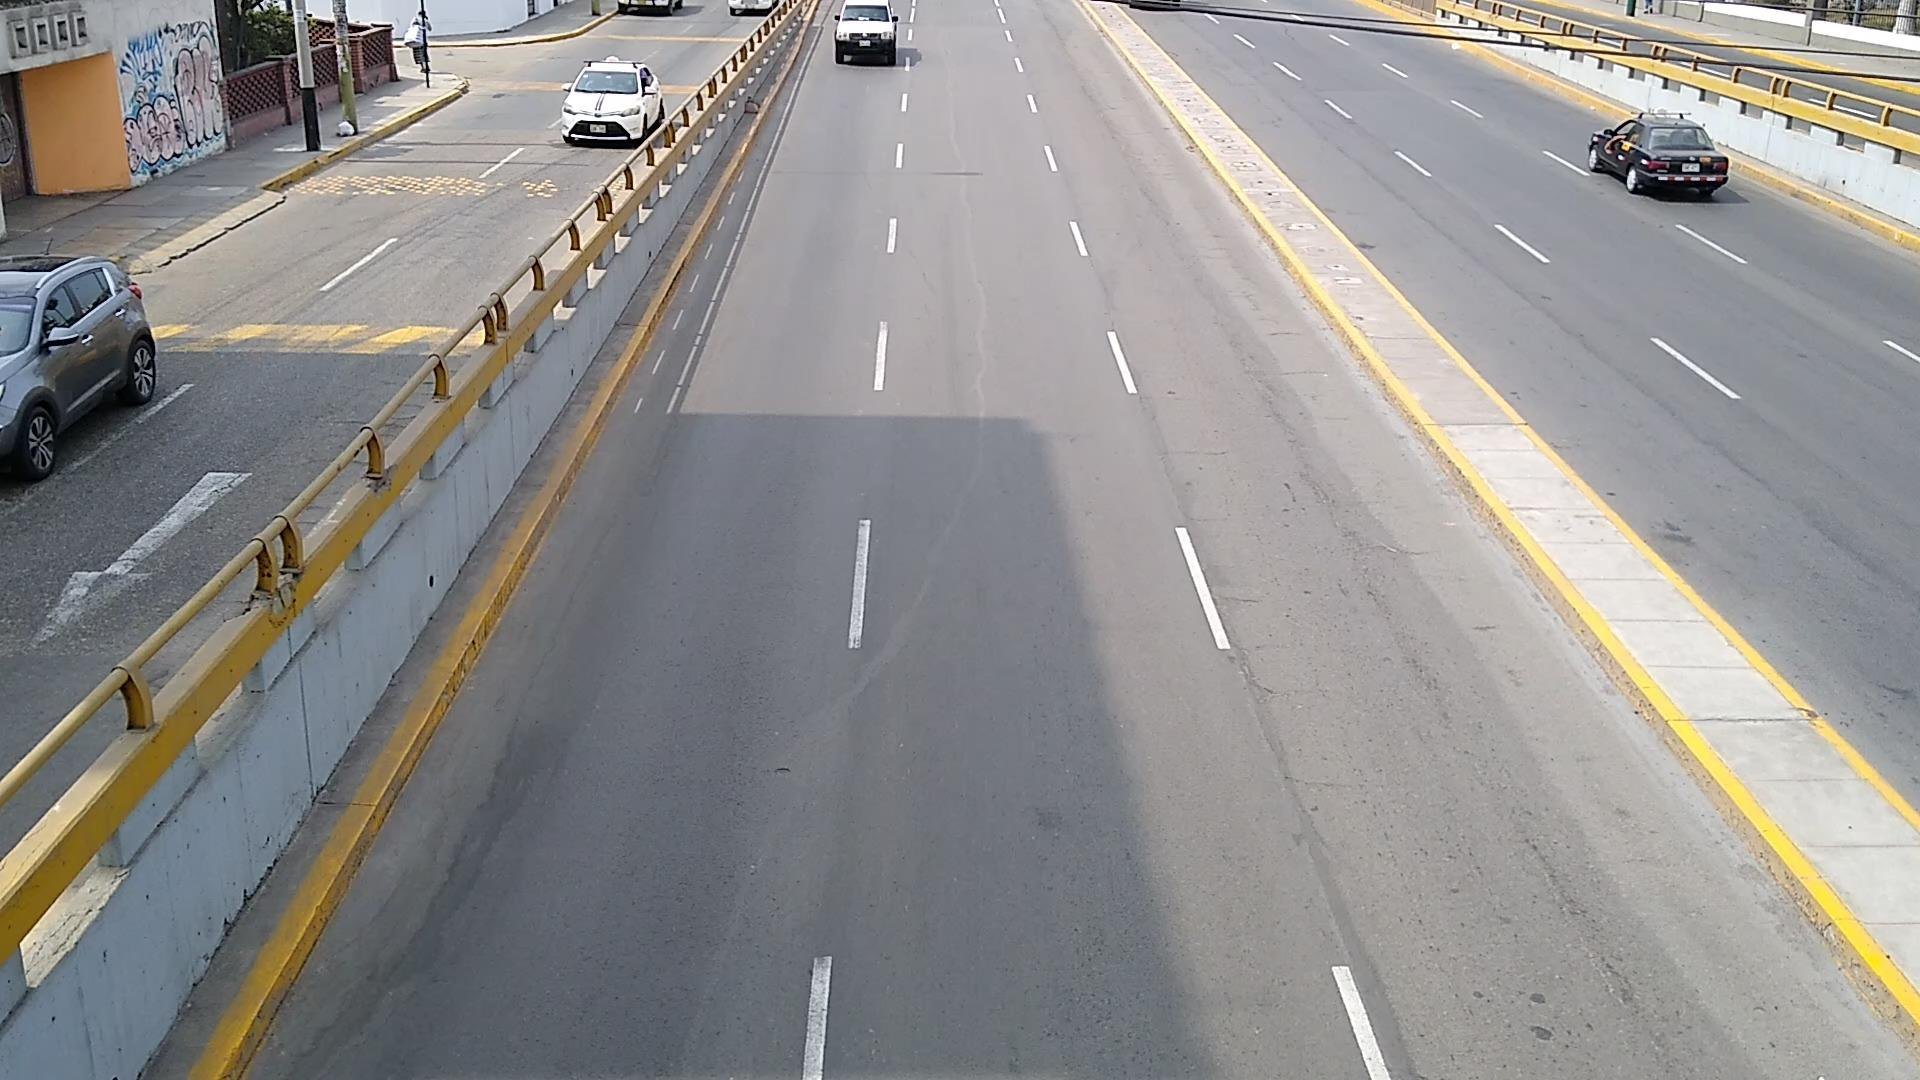car: (0, 255, 158, 480), (1586, 109, 1729, 199), (559, 56, 664, 142), (836, 0, 900, 64)
